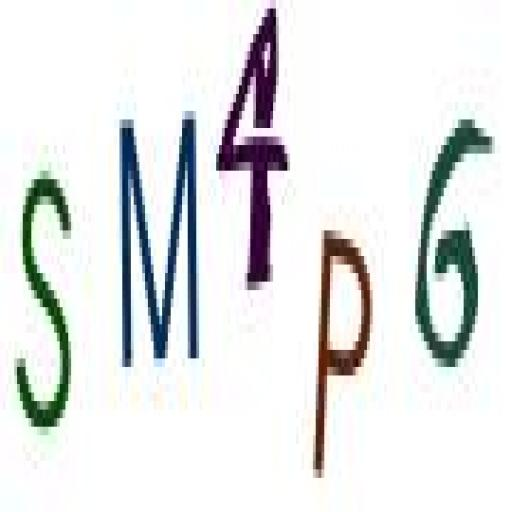4: (210, 6, 292, 307)
6: (414, 101, 496, 394)
M: (117, 105, 203, 373)
P: (312, 215, 374, 487)
S: (12, 155, 76, 443)
